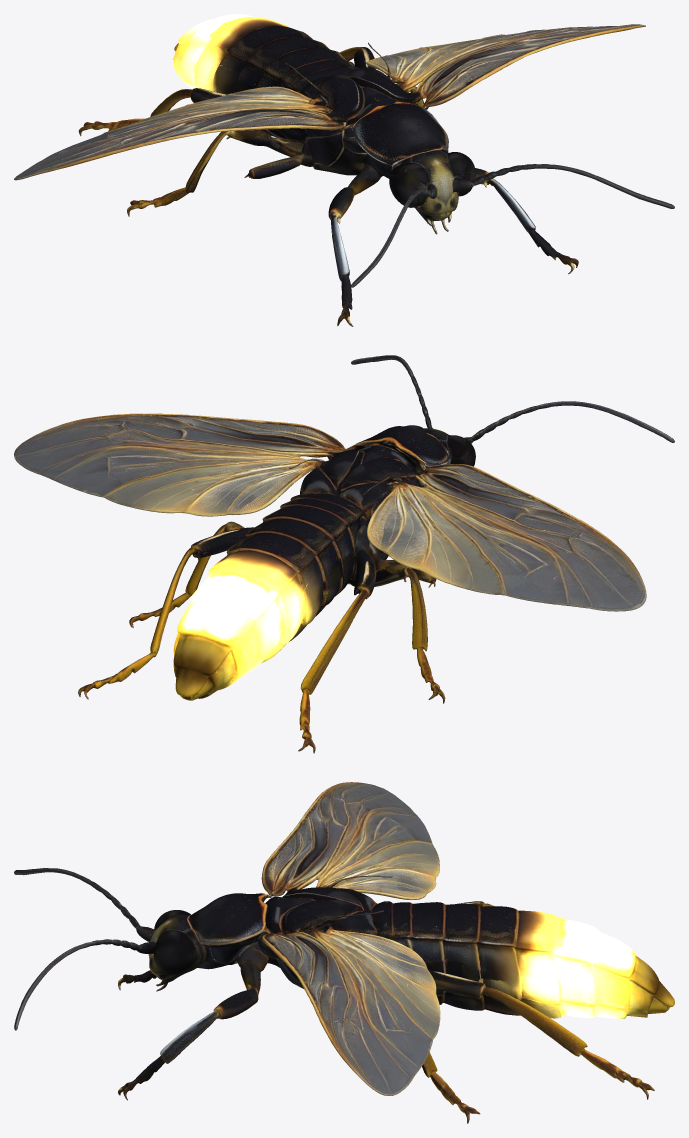
File: firefly.resized.glb
The picture shows the model from 3 angles, top to bottom: view 1: azimuth 30°, elevation 25°; view 2: azimuth 150°, elevation 25°; view 3: azimuth 270°, elevation 25°; orthographic projection.
Bounding box in the file's own units: 1.9 × 0.4539 × 1.73.
Materials: 1 (1 with a texture image).
